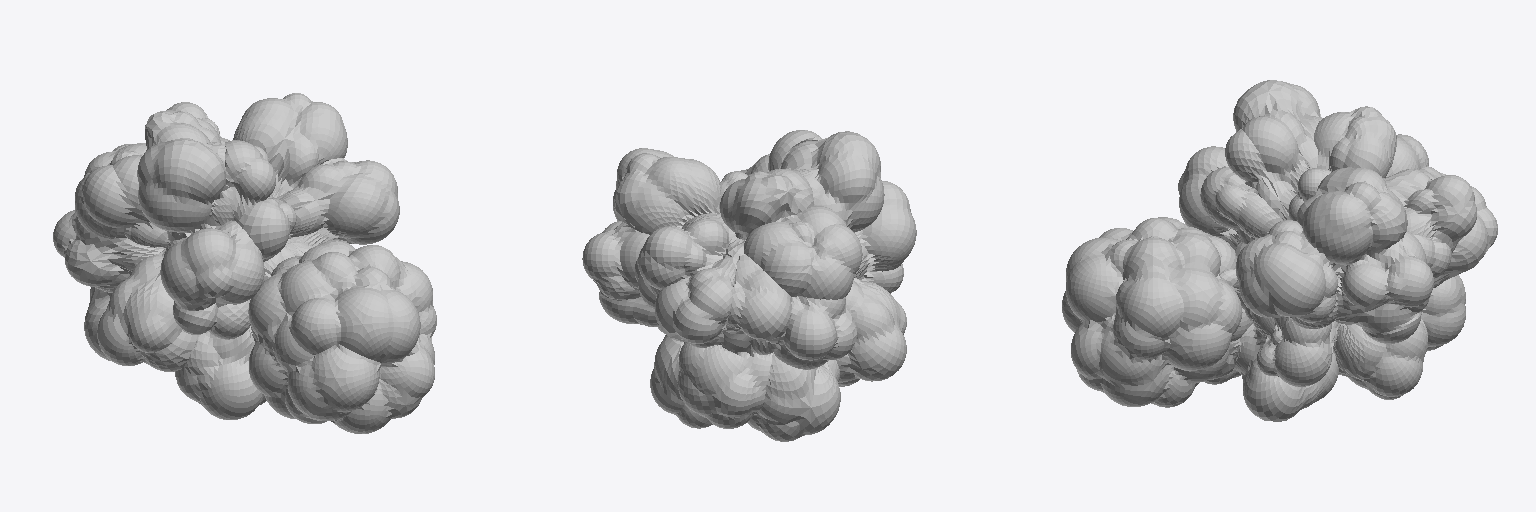
Rendered from explosion14.obj.
3 views of the same model, side by side, from view 1: azimuth 30°, elevation 25°; view 2: azimuth 150°, elevation 25°; view 3: azimuth 270°, elevation 25° (orthographic).
Visible parts, largest first — view 1: Explosion_blast_2_mesh_fire_smoke_m, Explosion_blast_1_mesh_fire_smoke_m; view 2: Explosion_blast_2_mesh_fire_smoke_m; view 3: Explosion_blast_2_mesh_fire_smoke_m, Explosion_blast_1_mesh_fire_smoke_m.
Part boxes in pixels (left/top/right/bottom): Explosion_blast_2_mesh_fire_smoke_m: left=53, top=93, right=399, bottom=419; Explosion_blast_1_mesh_fire_smoke_m: left=248, top=240, right=436, bottom=433; Explosion_blast_2_mesh_fire_smoke_m: left=582, top=130, right=916, bottom=441; Explosion_blast_2_mesh_fire_smoke_m: left=1178, top=80, right=1497, bottom=421; Explosion_blast_1_mesh_fire_smoke_m: left=1062, top=217, right=1250, bottom=407.
Size of the model in its own units: 3.78 by 3.4 by 4.94.